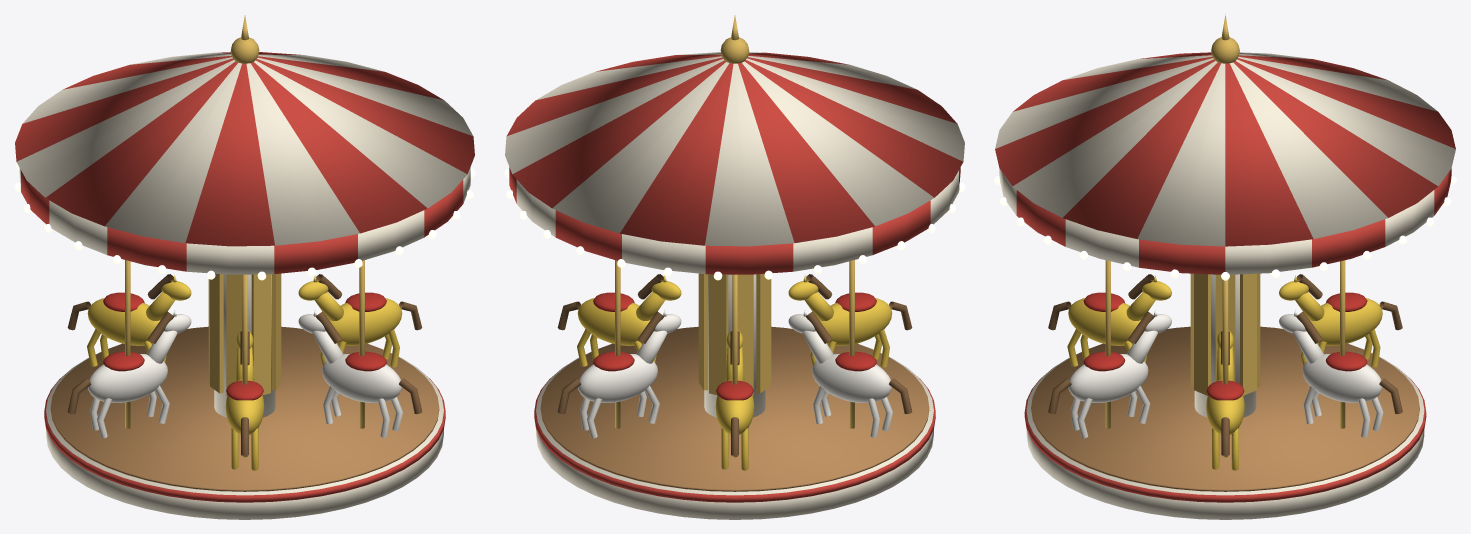
Rendered from carousel.glb.
3 views of the same model, side by side, from view 1: azimuth 30°, elevation 25°; view 2: azimuth 150°, elevation 25°; view 3: azimuth 270°, elevation 25° (orthographic).
Visible parts, largest first — view 1: canopy, deck, valance, base, trim, horse5_body, horse3_body, panel6, horse0_body, horse2_body, panel4, panel5 (+14 smaller); view 2: canopy, deck, valance, base, trim, horse3_body, horse1_body, panel2, horse4_body, horse0_body, panel4, panel3 (+14 smaller); view 3: canopy, deck, valance, base, trim, horse1_body, horse5_body, panel1, panel7, horse2_body, horse4_body, column (+13 smaller).
Part boxes in pixels (<box>): canopy: <box>15,52,474,246</box>; deck: <box>50,326,439,491</box>; valance: <box>19,167,470,274</box>; base: <box>46,349,443,519</box>; trim: <box>44,378,445,502</box>; horse5_body: <box>322,354,401,402</box>; horse3_body: <box>88,354,167,402</box>; panel6: <box>251,274,270,395</box>; horse0_body: <box>329,298,402,345</box>; horse2_body: <box>87,298,160,345</box>; panel4: <box>210,273,223,393</box>; panel5: <box>226,274,242,395</box>; canopy: <box>505,52,964,246</box>; deck: <box>540,326,929,491</box>; valance: <box>509,167,960,274</box>; base: <box>536,349,933,519</box>; trim: <box>534,378,935,502</box>; horse3_body: <box>812,354,891,402</box>; horse1_body: <box>578,354,657,402</box>; panel2: <box>709,274,728,395</box>; horse4_body: <box>819,298,892,345</box>; horse0_body: <box>577,298,650,345</box>; panel4: <box>756,273,769,393</box>; panel3: <box>737,274,753,395</box>; canopy: <box>995,52,1455,246</box>; deck: <box>1031,326,1419,491</box>; valance: <box>999,168,1451,274</box>; base: <box>1026,352,1424,519</box>; trim: <box>1024,378,1426,502</box>; horse1_body: <box>1302,354,1382,402</box>; horse5_body: <box>1068,354,1148,402</box>; panel1: <box>1240,273,1256,395</box>; panel7: <box>1194,273,1210,395</box>; horse2_body: <box>1310,298,1382,345</box>; horse4_body: <box>1068,298,1140,345</box>; column: <box>1194,274,1256,417</box>.
Bounding box in the file's own units: 5.12 × 5.15 × 5.12.
